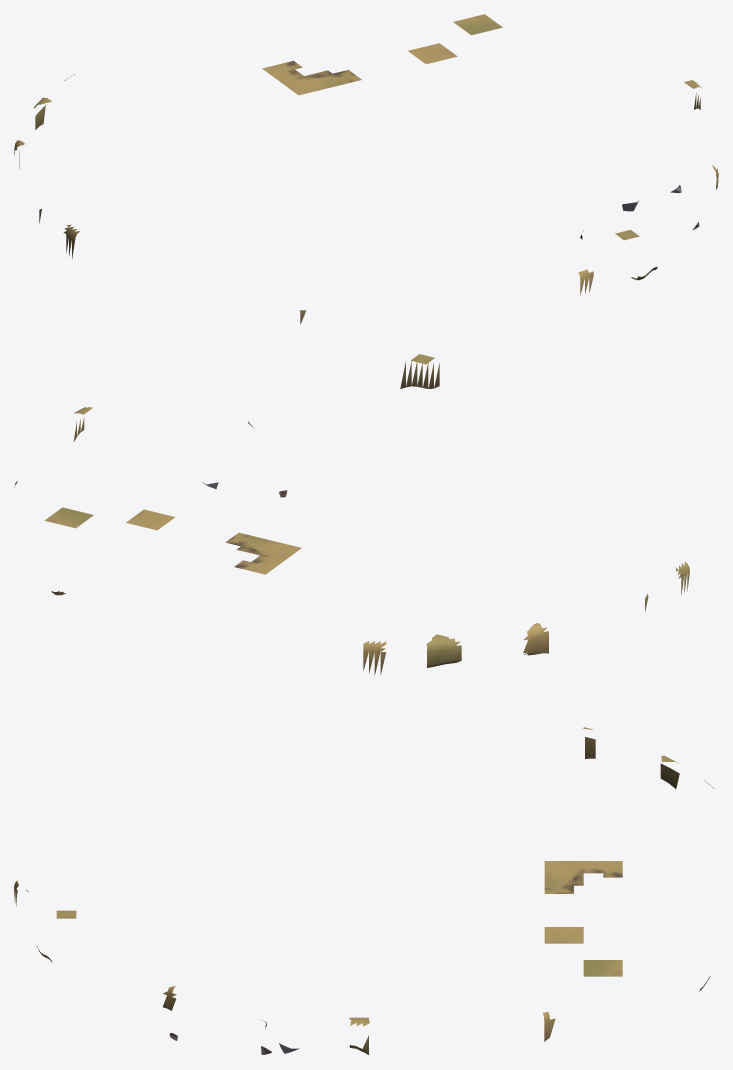
3 renders of one model, top to bottom at view 1: azimuth 30°, elevation 25°; view 2: azimuth 150°, elevation 25°; view 3: azimuth 270°, elevation 25°, orthographic. The views are drawn at different scales.
Visible parts, largest first — view 1: Grass_0_2_0, Grass_2_2_0_000, Grass_3_2_0_010; view 2: Grass_0_2_0, Grass_-4_3_0_110, Grass_-5_2_0_110, Grass_1_-5_0_111, Grass_3_2_0_010, Grass_2_2_0_000, Grass_-3_4_0_100_000; view 3: Grass_0_2_0, Grass_2_2_0_000, Grass_3_2_0_010.
Part boxes in pixels (bbox=[...]): Grass_0_2_0: bbox=[262, 61, 361, 95]; Grass_2_2_0_000: bbox=[408, 43, 457, 64]; Grass_3_2_0_010: bbox=[453, 14, 502, 35]; Grass_0_2_0: bbox=[225, 532, 301, 574]; Grass_-4_3_0_110: bbox=[426, 634, 461, 667]; Grass_-5_2_0_110: bbox=[523, 623, 548, 655]; Grass_1_-5_0_111: bbox=[400, 361, 439, 388]; Grass_3_2_0_010: bbox=[44, 507, 93, 528]; Grass_2_2_0_000: bbox=[126, 509, 175, 530]; Grass_-3_4_0_100_000: bbox=[363, 641, 386, 675]; Grass_0_2_0: bbox=[544, 861, 622, 893]; Grass_2_2_0_000: bbox=[544, 927, 583, 943]; Grass_3_2_0_010: bbox=[583, 960, 622, 976].
Size of the model in its own units: 628 by 80.15 by 578.
21 materials, 21 textured.
